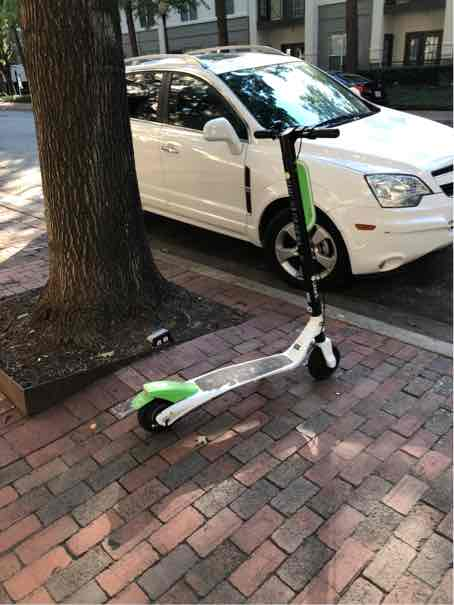scooter: (127, 111, 357, 447)
